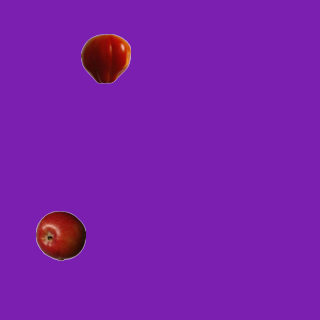Apple Braeburn: (35, 210, 85, 260)
Tomato 1: (80, 33, 130, 83)
